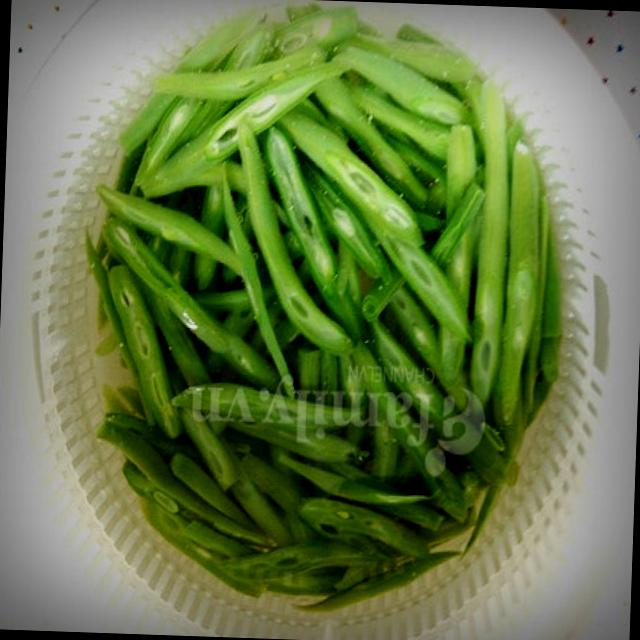dau que: (88, 7, 560, 610)
